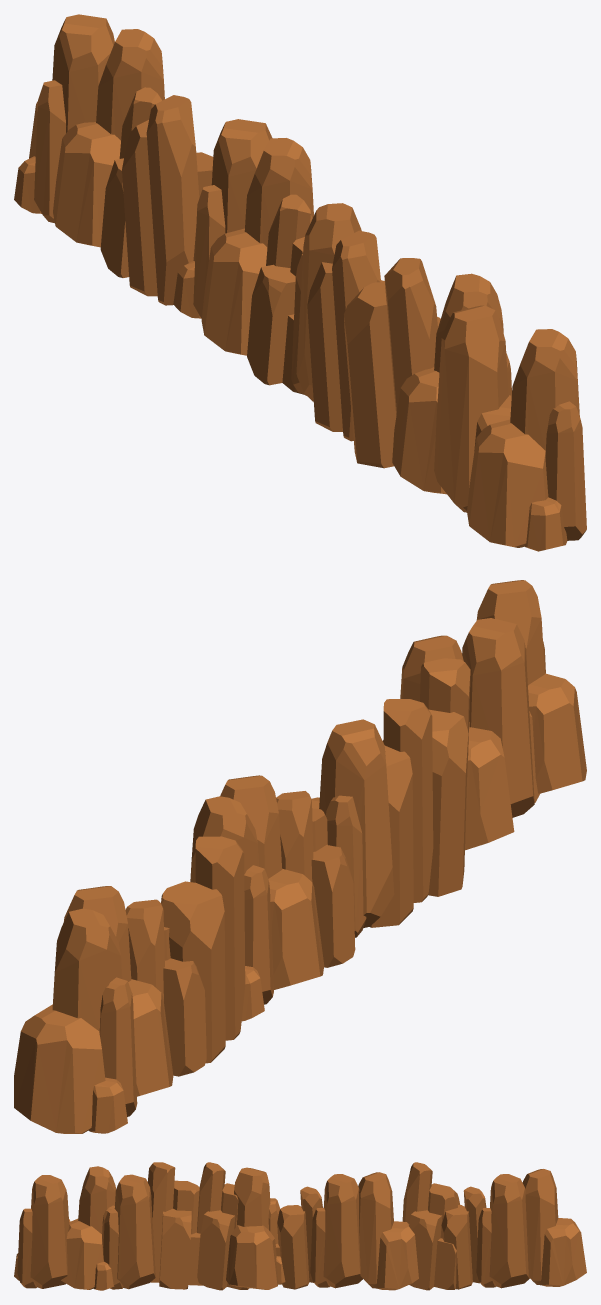
The model's file is boundry.glb.
The picture shows the model from 3 angles, top to bottom: view 1: azimuth 30°, elevation 25°; view 2: azimuth 150°, elevation 25°; view 3: azimuth 270°, elevation 25°; orthographic projection. The views are drawn at different scales.
Visible parts, largest first — view 1: crystal_16.010, crystal_9.007, crystal_9.008, crystal_16.013, crystal_16.012, crystal_16.015, crystal_16.014, crystal_9.009, crystal_9.005, crystal_16.016, crystal_16.011, crystal_16.017 (+1 smaller); view 2: crystal_16.014, crystal_9.007, crystal_16.017, crystal_9.009, crystal_16.012, crystal_9.008, crystal_16.010, crystal_16.015, crystal_9.005, crystal_9.006, crystal_16.016, crystal_16.011 (+1 smaller); view 3: crystal_9.008, crystal_16.017, crystal_16.016, crystal_16.014, crystal_16.010, crystal_16.013, crystal_16.015, crystal_16.011, crystal_9.007, crystal_16.012, crystal_9.009, crystal_9.005 (+1 smaller).
Part boxes in pixels (box(x1,y1,x2,y2)): crystal_16.010: box(467, 329, 586, 551); crystal_9.007: box(122, 95, 213, 305); crystal_9.008: box(344, 258, 440, 468); crystal_16.013: box(53, 29, 164, 247); crystal_16.012: box(434, 305, 511, 512); crystal_16.015: box(201, 138, 313, 355); crystal_16.014: box(14, 14, 114, 223); crystal_9.009: box(307, 230, 380, 441); crystal_9.005: box(247, 194, 310, 394); crystal_16.016: box(173, 119, 272, 318); crystal_16.011: box(392, 273, 511, 494); crystal_16.017: box(291, 203, 384, 401); crystal_16.014: box(14, 908, 137, 1133); crystal_9.007: box(161, 836, 245, 1063); crystal_16.017: box(311, 719, 394, 937); crystal_9.009: box(369, 699, 433, 927); crystal_16.012: box(462, 618, 540, 817); crystal_9.008: box(383, 658, 470, 896); crystal_16.010: box(476, 580, 586, 793); crystal_16.015: box(220, 775, 324, 989); crystal_9.005: box(276, 791, 355, 967); crystal_9.006: box(125, 899, 206, 1076); crystal_16.016: box(190, 796, 273, 1021); crystal_16.011: box(400, 635, 514, 850); crystal_9.008: box(147, 1162, 202, 1289); crystal_16.017: box(226, 1167, 285, 1289); crystal_16.016: box(358, 1172, 418, 1290); crystal_16.014: box(522, 1169, 586, 1286); crystal_16.010: box(14, 1175, 70, 1288); crystal_16.013: box(476, 1174, 529, 1288); crystal_16.015: box(309, 1174, 362, 1288); crystal_16.011: box(103, 1174, 155, 1289); crystal_9.007: box(402, 1162, 460, 1290); crystal_16.012: box(61, 1166, 115, 1290); crystal_9.009: box(197, 1162, 249, 1290); crystal_9.005: box(275, 1186, 322, 1289).
Size of the model in its own units: 12.75 by 19.93 by 91.47.
